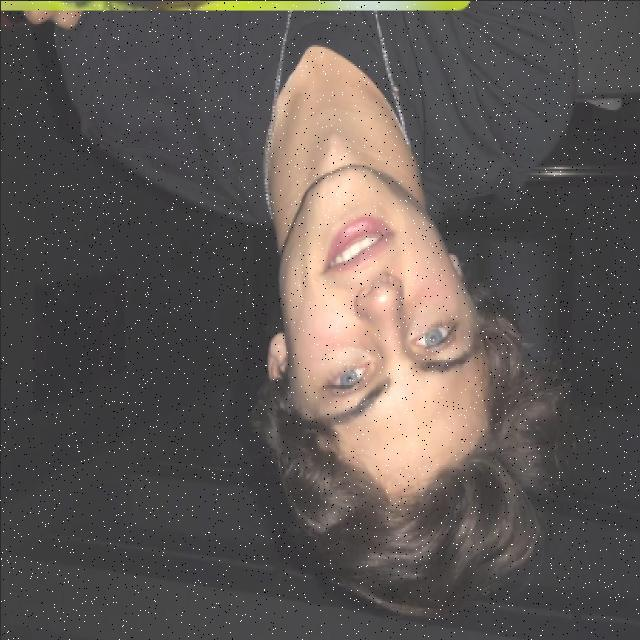face_no_mask: (267, 156, 499, 490)
